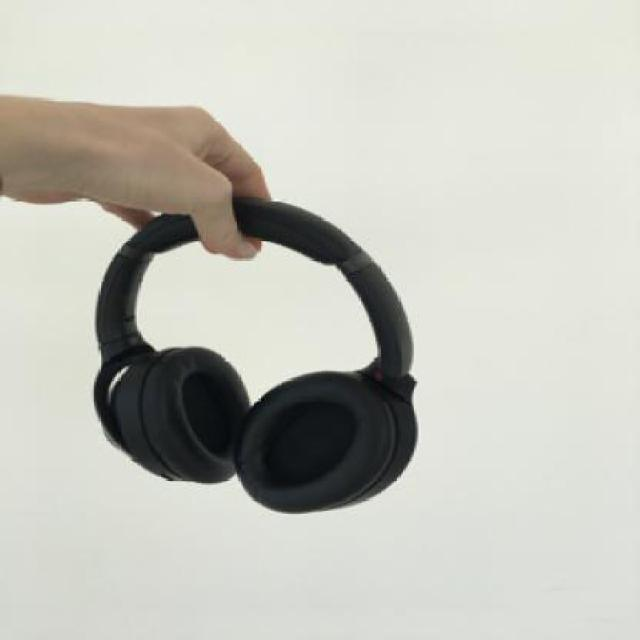earphone: (90, 120, 438, 580)
